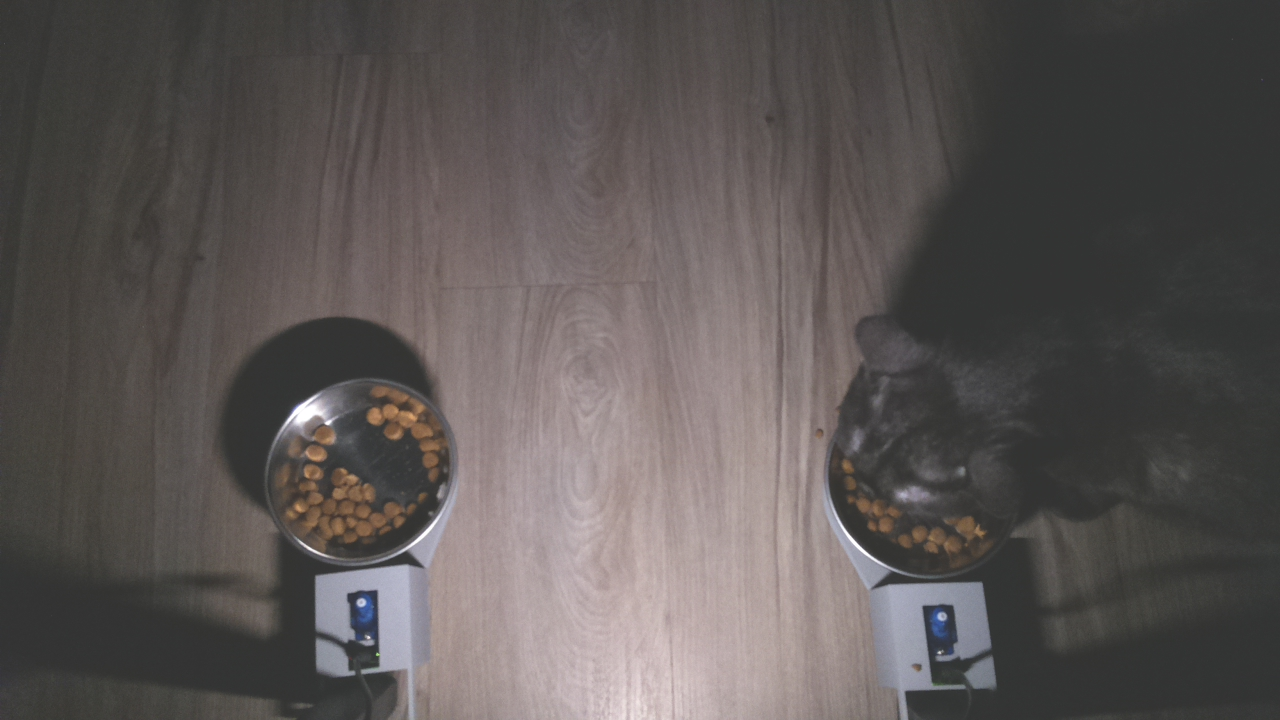open_bowl: (263, 375, 466, 575)
saki_eating: (823, 277, 1063, 590)
